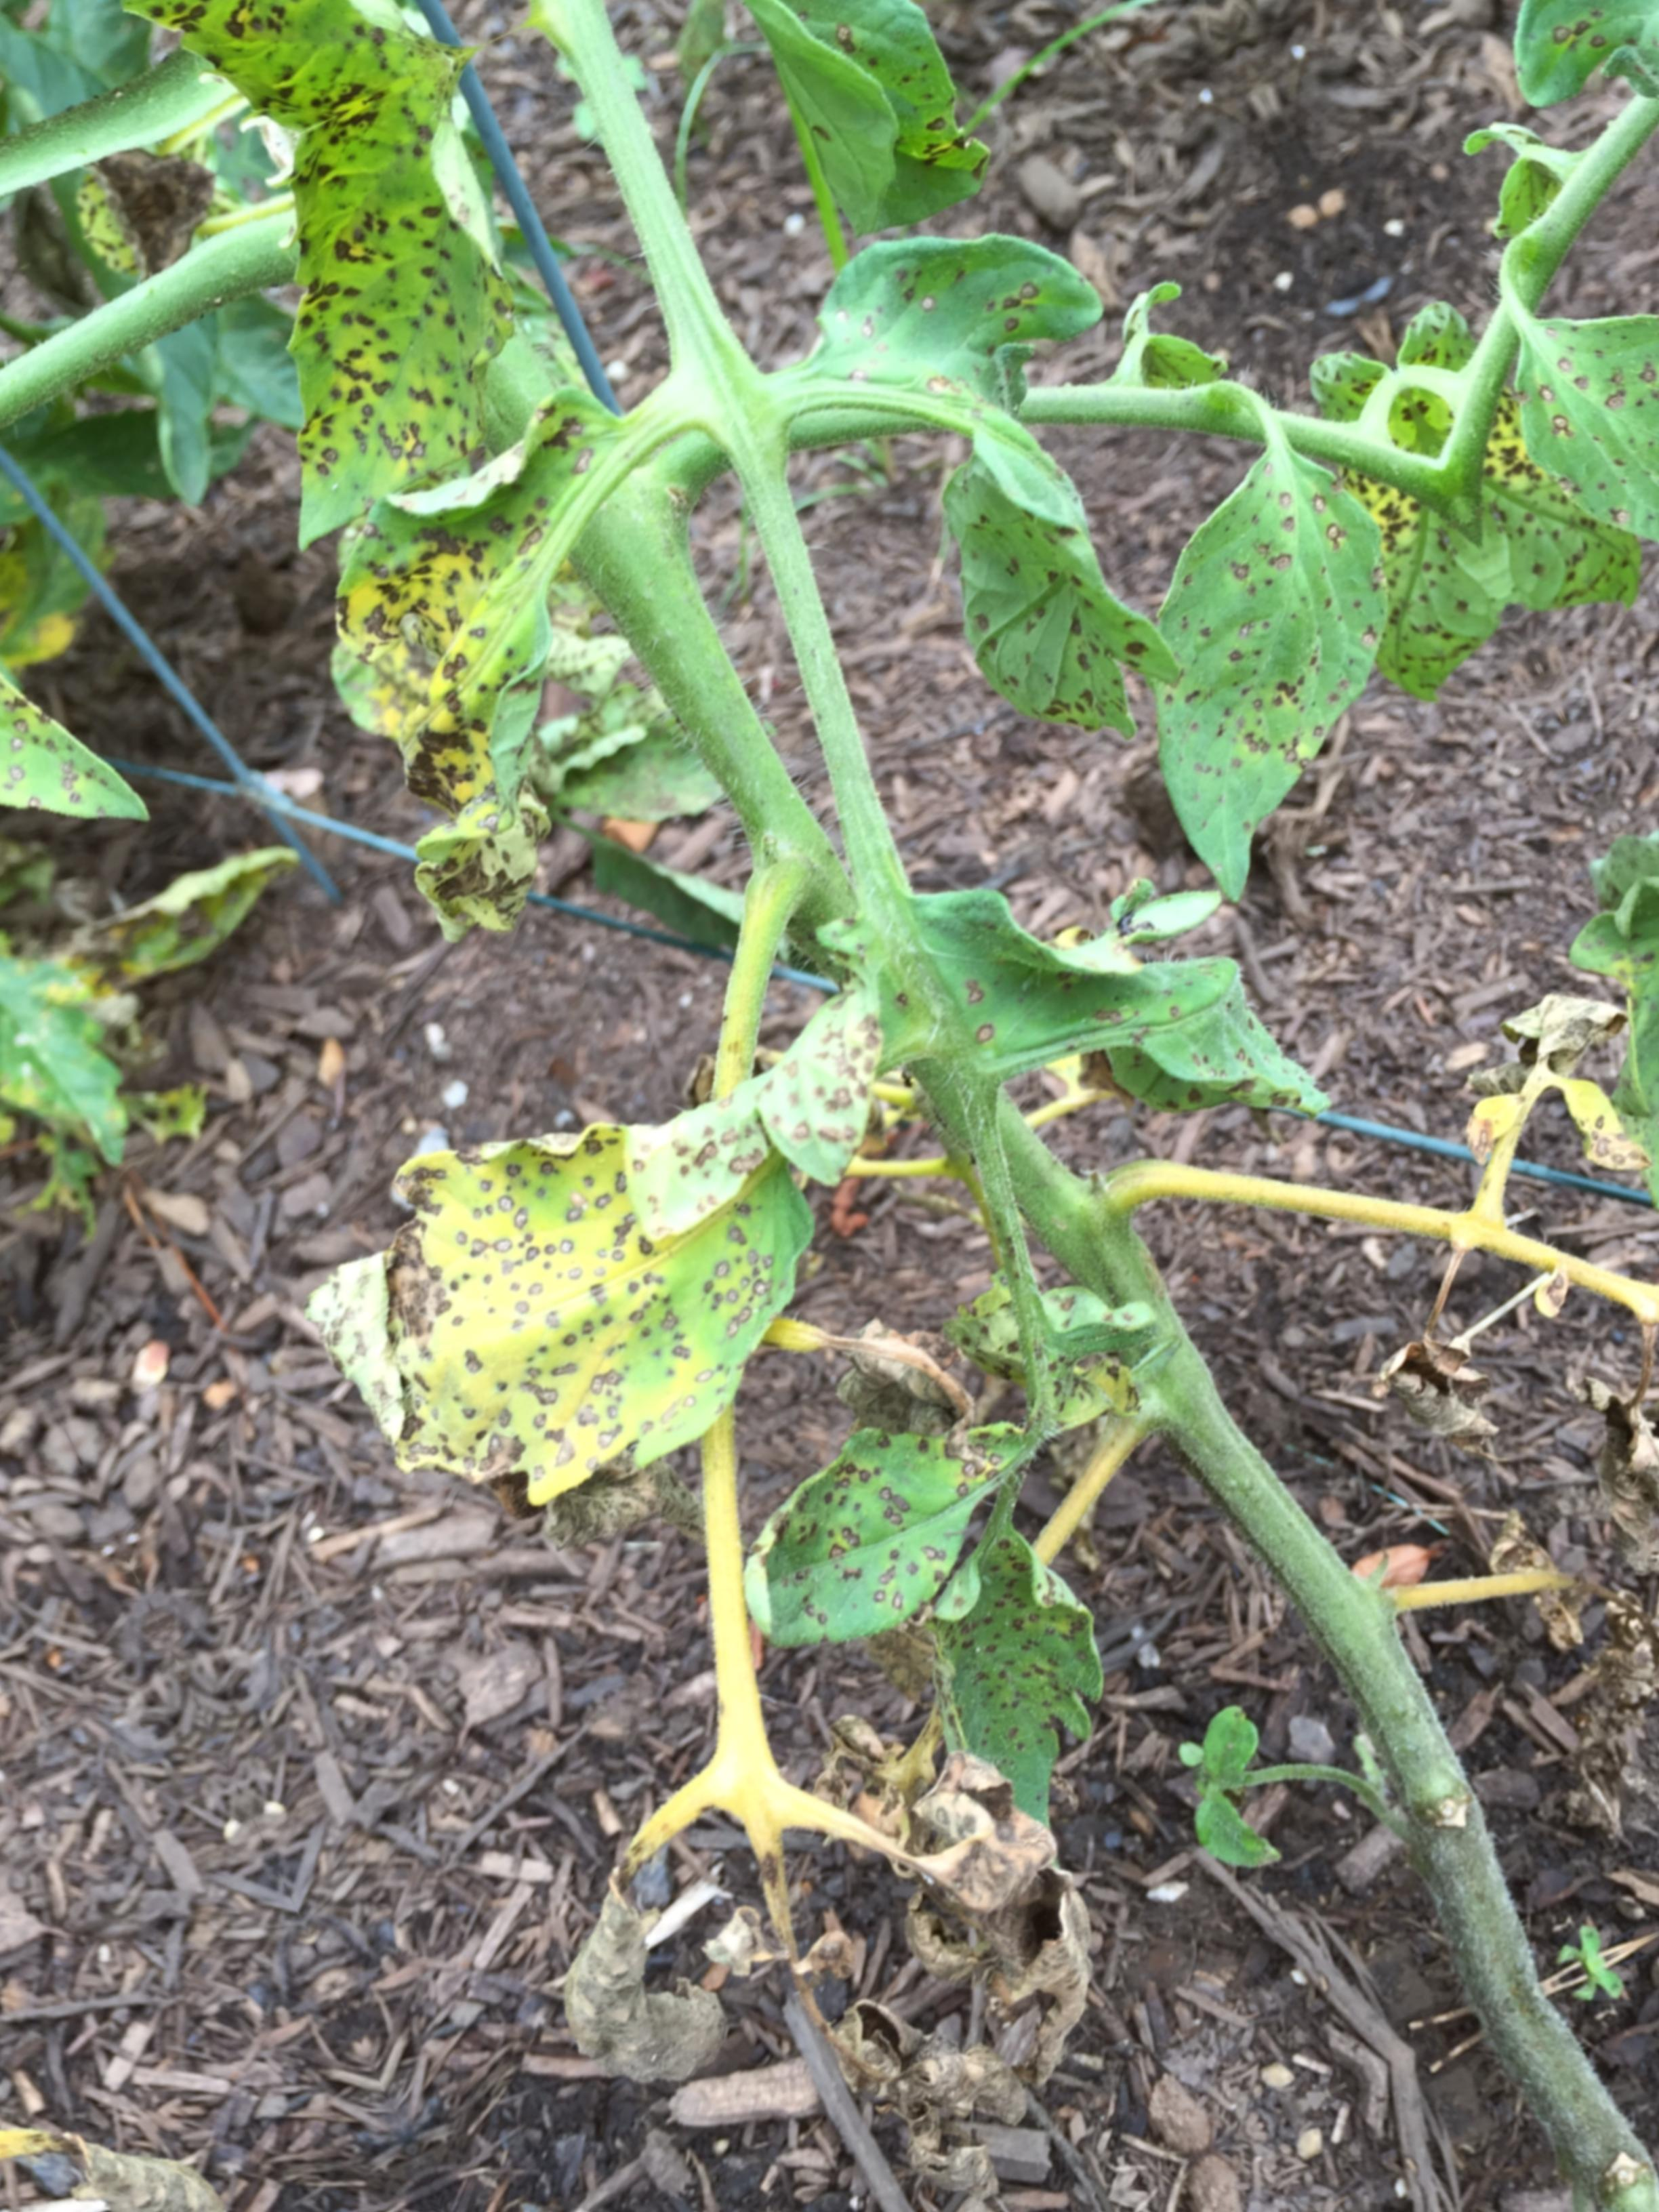Tomato Septoria leaf spot: (178, 921, 1089, 1635), (246, 378, 823, 970), (131, 40, 690, 568), (1021, 406, 1532, 941), (873, 759, 1335, 1261), (643, 1362, 1084, 1721), (859, 1470, 1243, 1867), (859, 373, 1213, 789), (0, 373, 157, 956)
